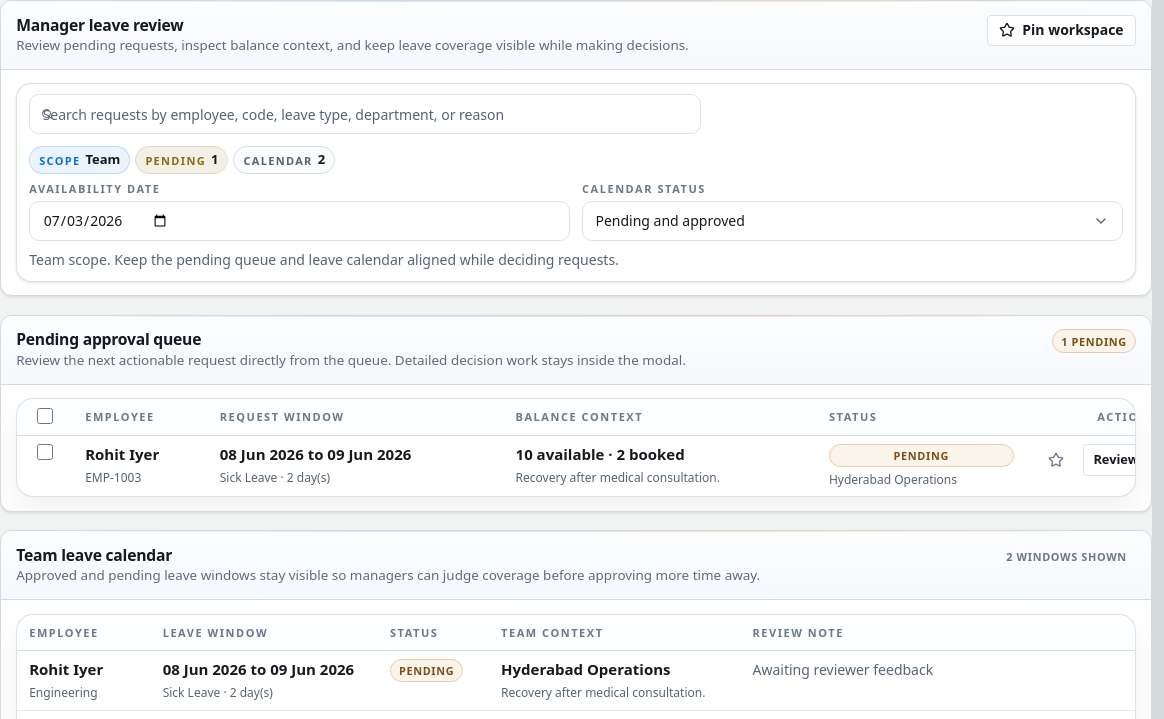
Scenario: LeaveReviewWorkspace › lets users pin the approvals workspace from a queue row
Click the button named "pin approvals workspace" at (1056, 460), box [1038,444,1075,476]
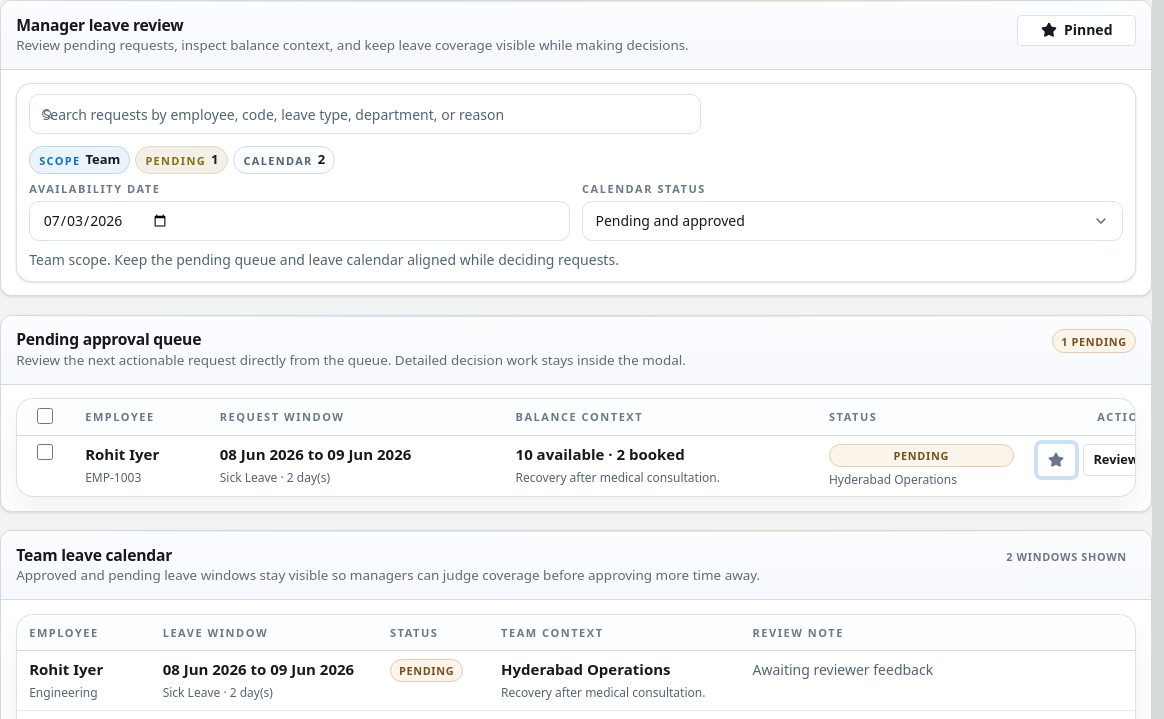
Expected: the button named "unpin approvals workspace" is shown, [1038,444,1075,476]
